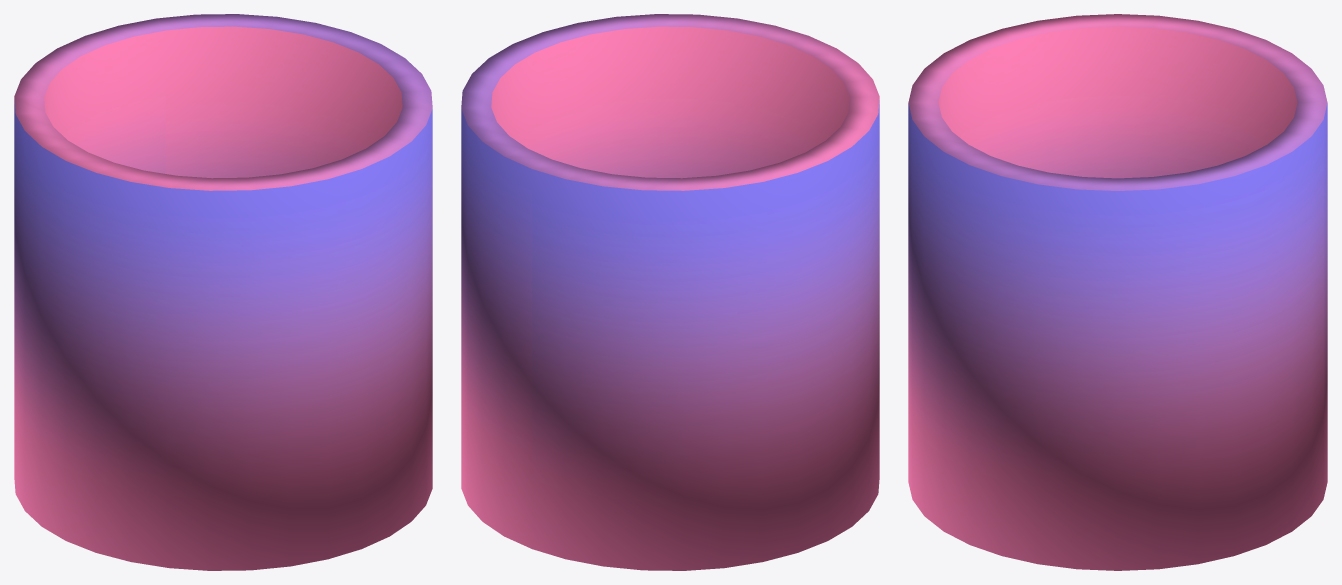
Rendered from SkyCilinder.fbx.
The picture shows the model from 3 angles, left to right: view 1: azimuth 30°, elevation 25°; view 2: azimuth 150°, elevation 25°; view 3: azimuth 270°, elevation 25°; orthographic projection.
Visible parts, largest first — view 1: Cylinder.008; view 2: Cylinder.008; view 3: Cylinder.008.
Boxes of the visible parts, box(x1,y1,x2,y2) form: Cylinder.008: box(14, 14, 432, 570); Cylinder.008: box(461, 14, 879, 570); Cylinder.008: box(908, 14, 1327, 570).
Size of the model in its own units: 200 by 200 by 200.
